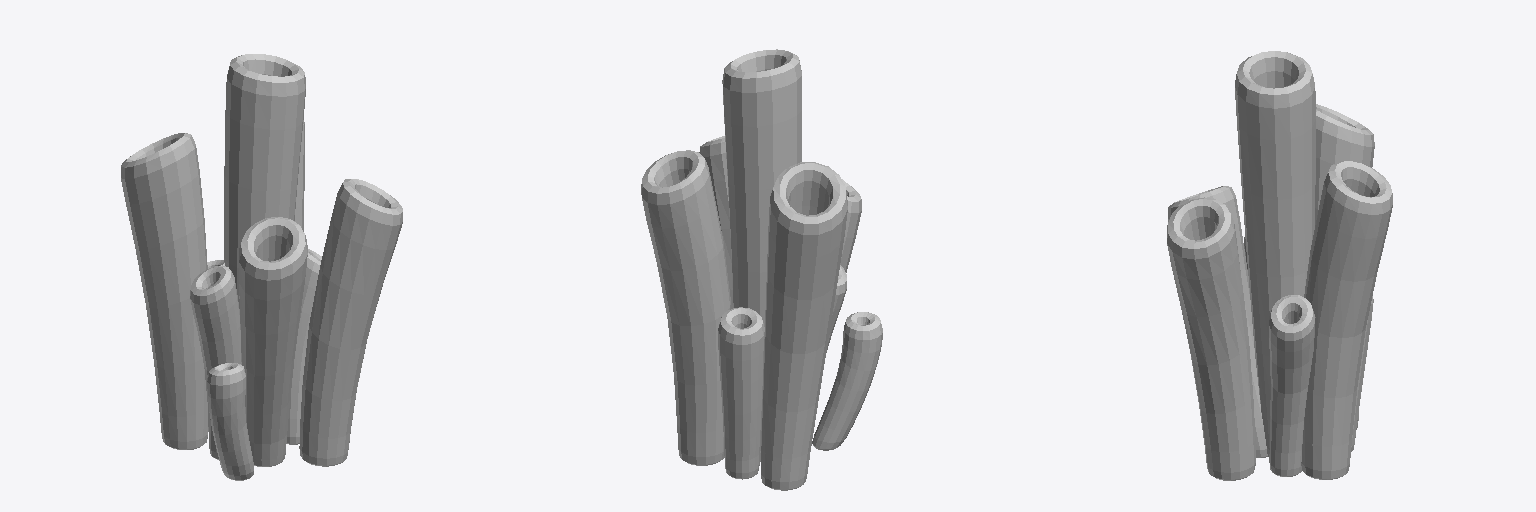
Rendered from Coral_C_01_LOD0.obj.
3 views of the same model, side by side, from view 1: azimuth 30°, elevation 25°; view 2: azimuth 150°, elevation 25°; view 3: azimuth 270°, elevation 25° (orthographic).
Parts seen in each view (by area): view 1: Coral_C_01_LOD0_Cylinder.240; view 2: Coral_C_01_LOD0_Cylinder.240; view 3: Coral_C_01_LOD0_Cylinder.240.
Boxes of the visible parts, x1,y1,x2,y2 form: Coral_C_01_LOD0_Cylinder.240: [121, 54, 402, 480]; Coral_C_01_LOD0_Cylinder.240: [641, 49, 882, 490]; Coral_C_01_LOD0_Cylinder.240: [1167, 51, 1392, 480].
Size of the model in its own units: 3.63 by 6.62 by 3.47.